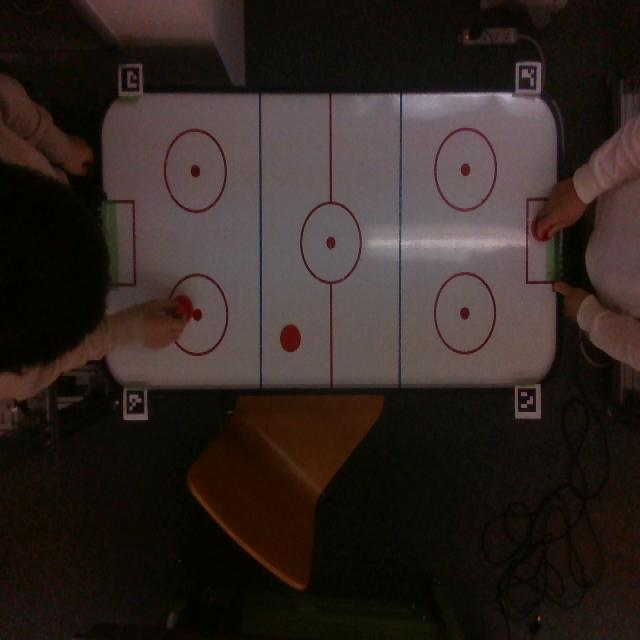puck: (280, 319, 302, 359)
